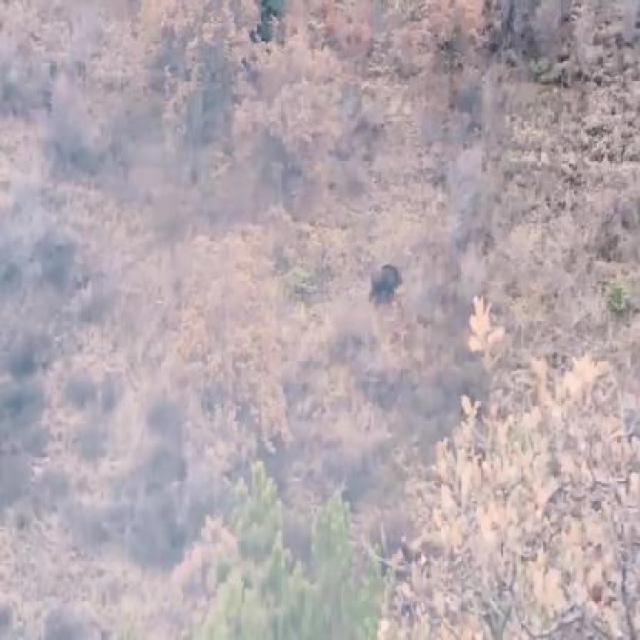pig: (372, 238, 400, 312)
